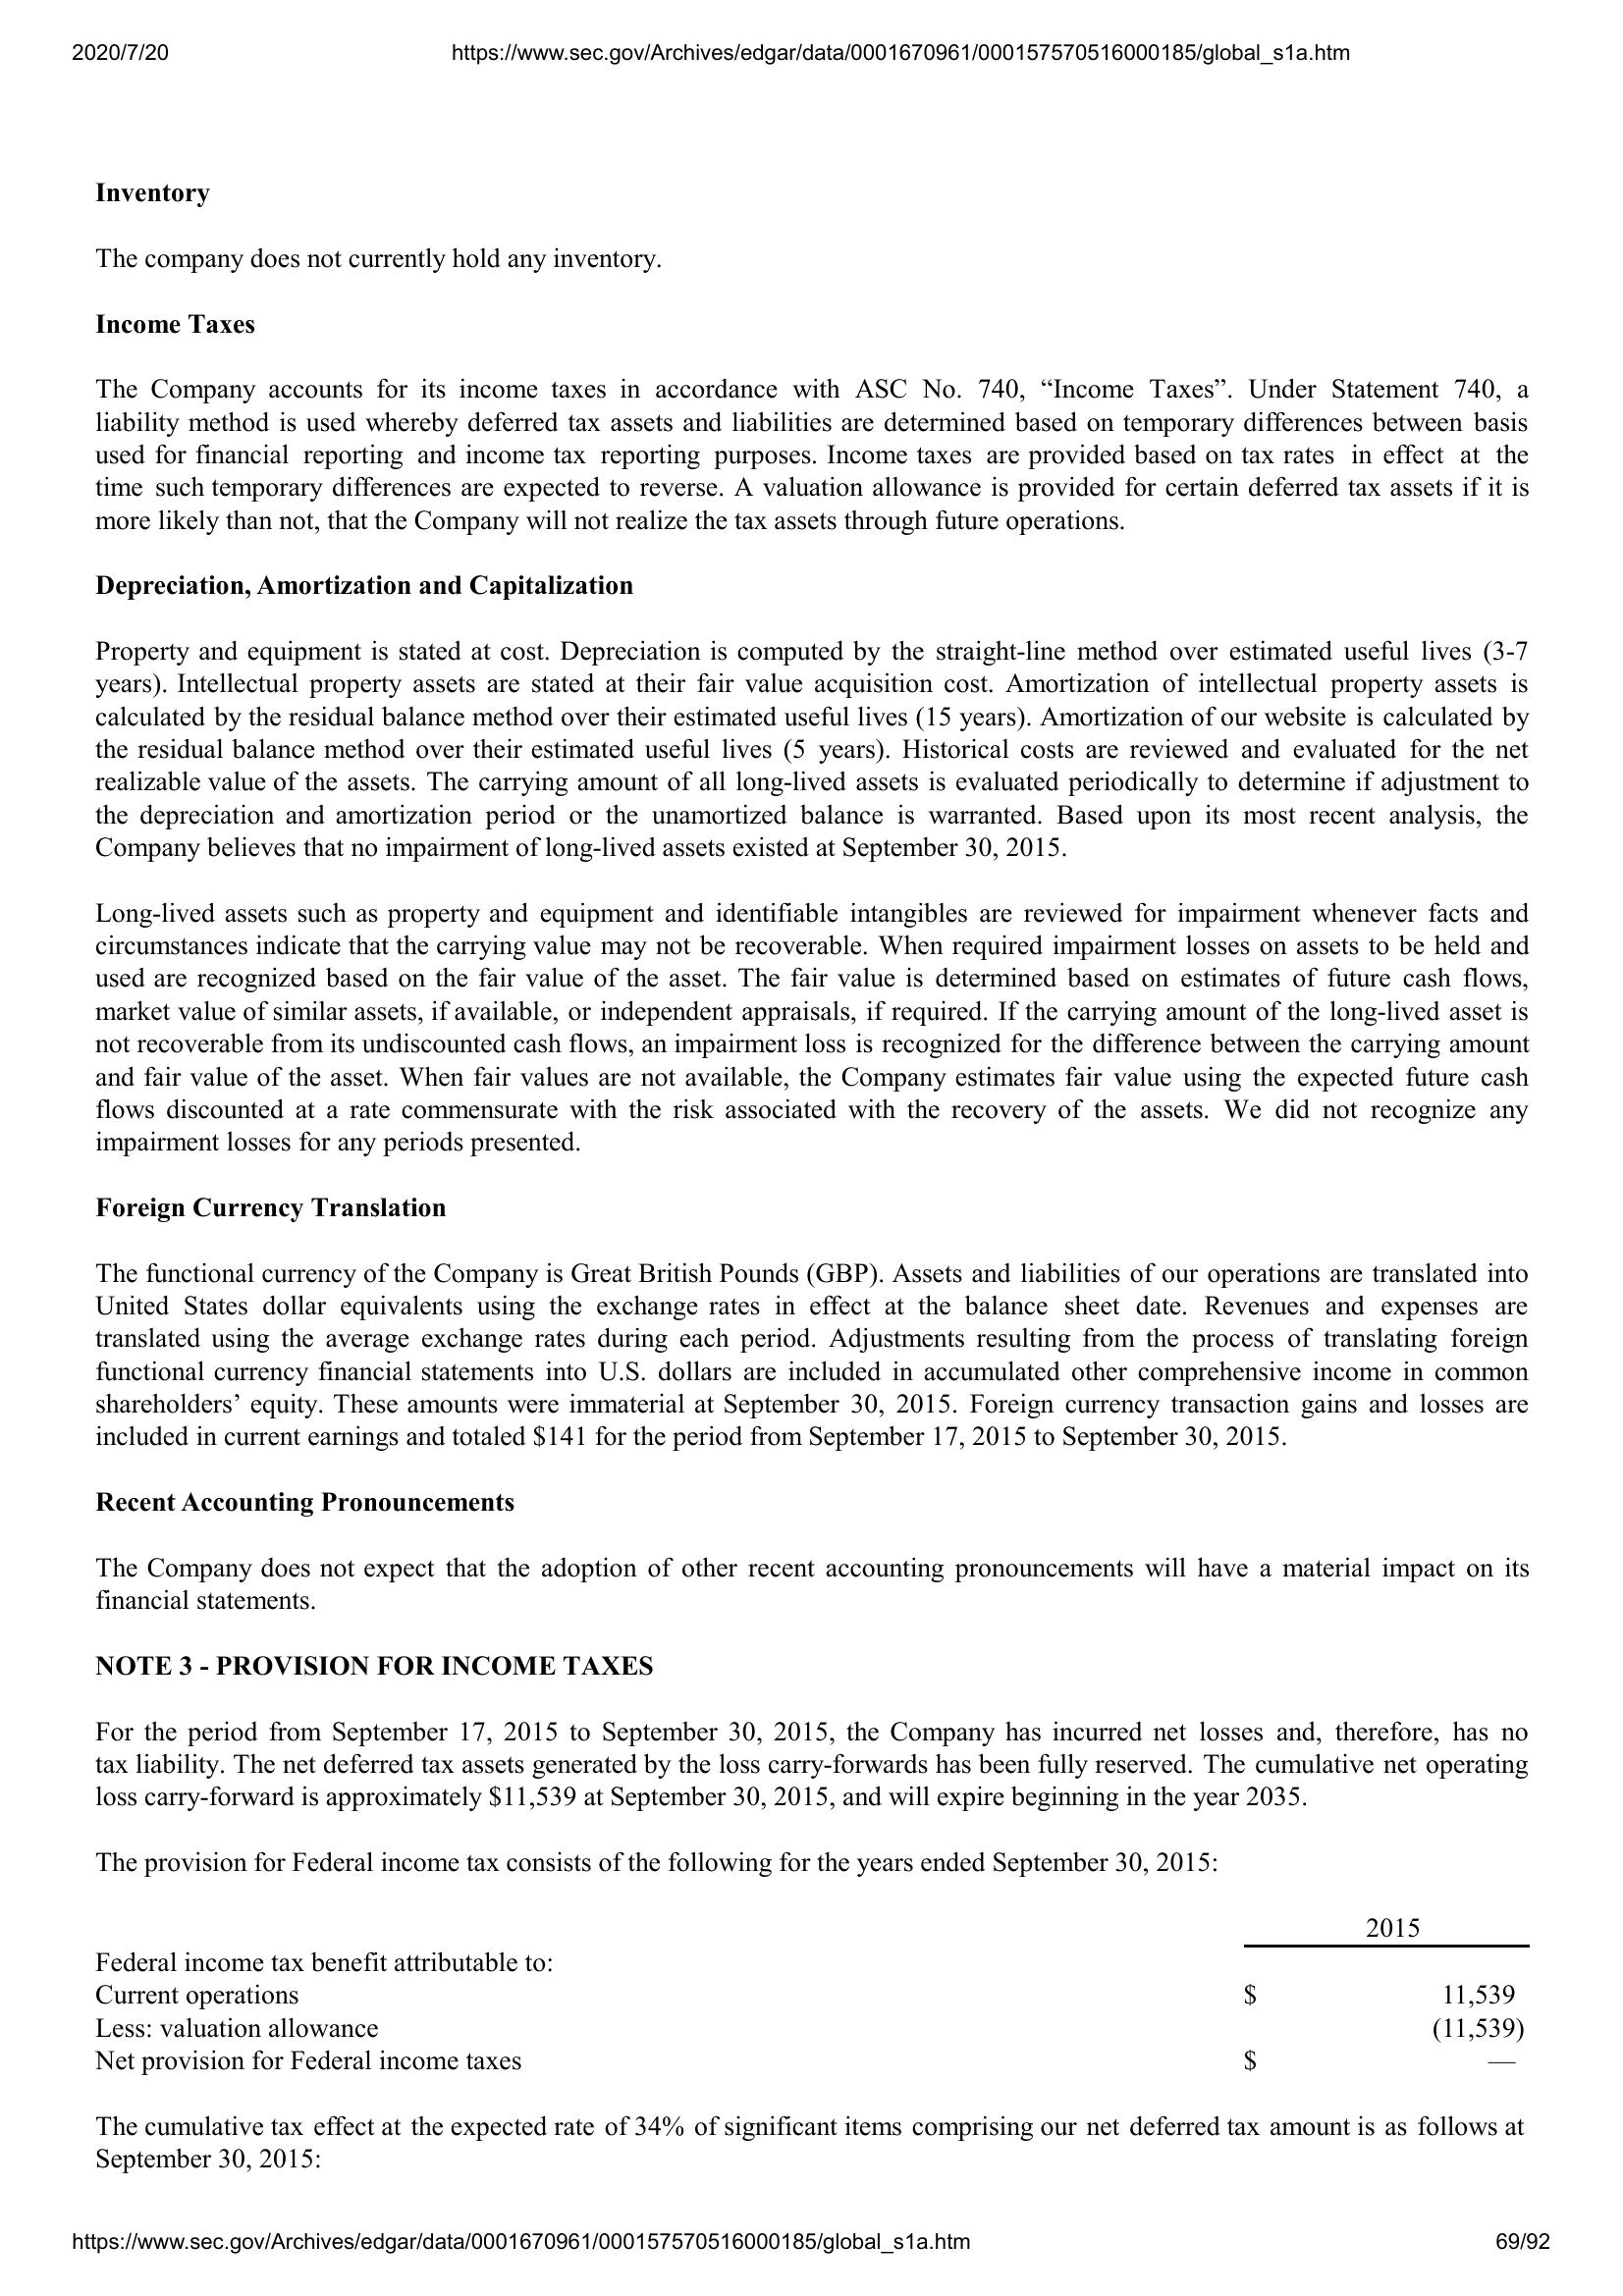table: (90, 1912, 1535, 2077)
